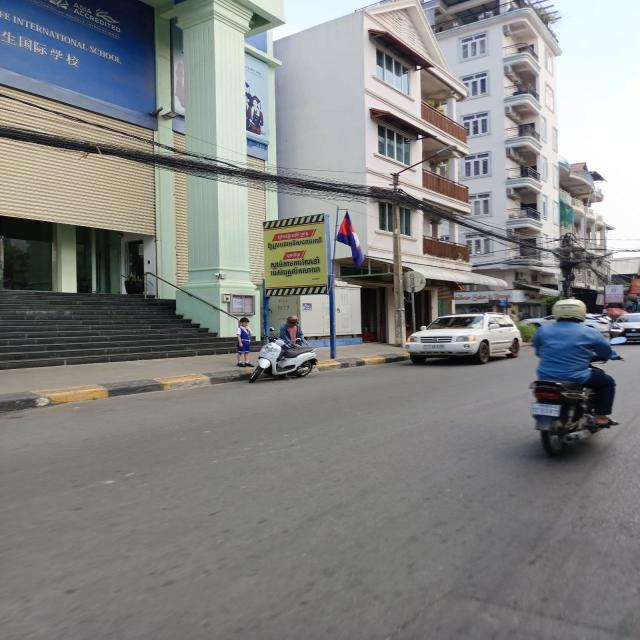Yolov11kh: (267, 235, 323, 250), (267, 256, 321, 270), (268, 266, 323, 278)
